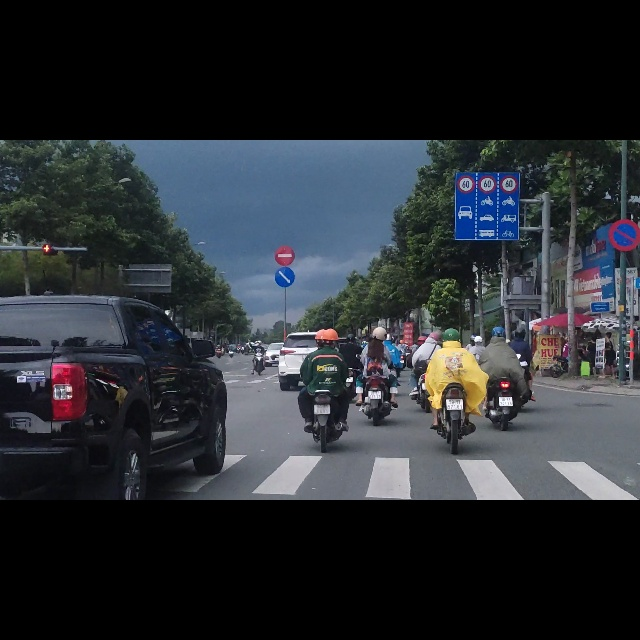bien_hieu_lenh: (455, 58, 519, 177), (608, 139, 640, 199), (274, 187, 295, 224), (274, 226, 295, 261)
